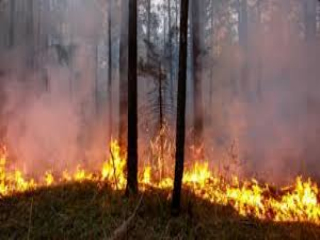fire: (3, 123, 318, 227)
smoke: (215, 38, 311, 181), (10, 45, 102, 182)
